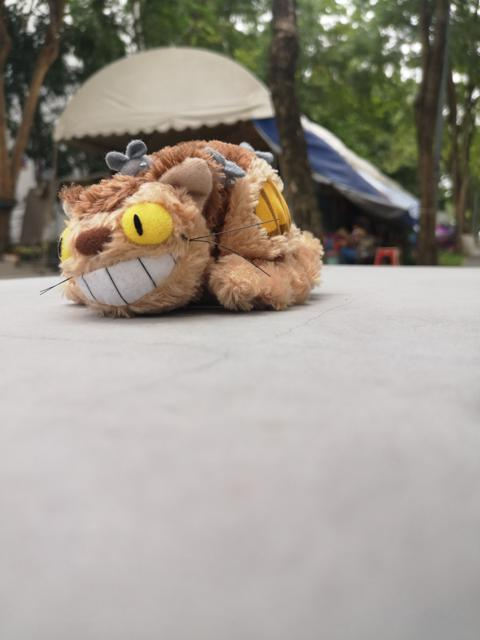nekobus: (36, 133, 328, 327)
